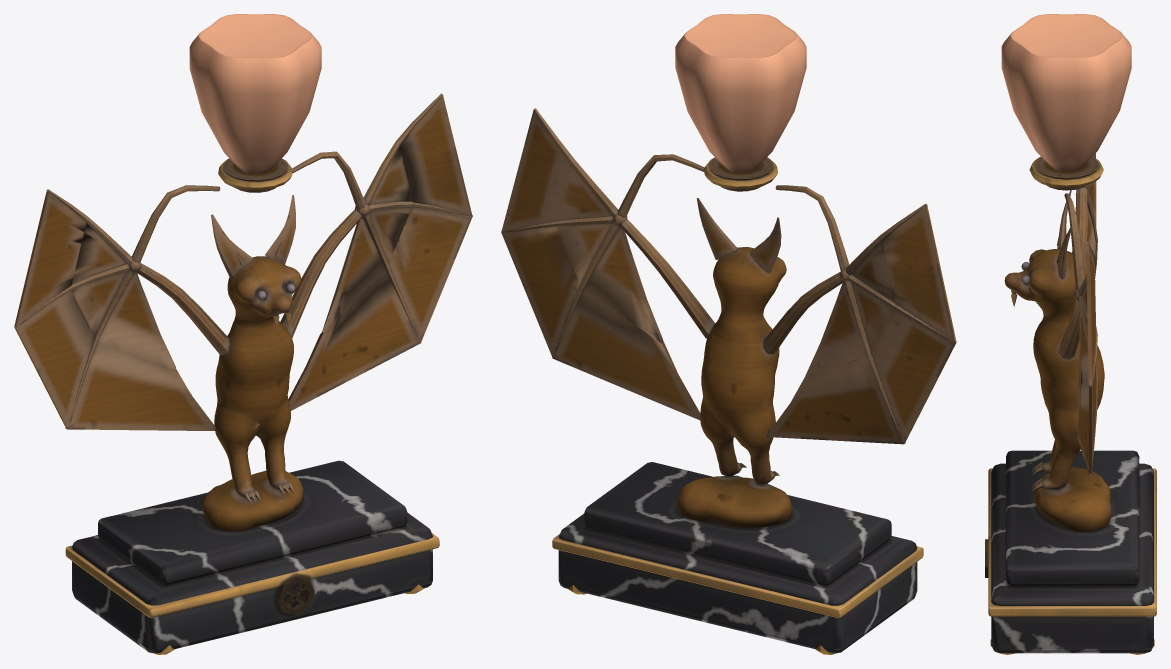
File: MantelLampBat.fbx
3 views of the same model, side by side, from view 1: azimuth 30°, elevation 25°; view 2: azimuth 150°, elevation 25°; view 3: azimuth 270°, elevation 25° (orthographic).
Parts seen in each view (by area): view 1: MantelLampBat_Main, MantelLampBat_Glow; view 2: MantelLampBat_Main, MantelLampBat_Glow; view 3: MantelLampBat_Main, MantelLampBat_Glow.
Part boxes in pixels (<box>): MantelLampBat_Main: <box>14,93,472,654</box>; MantelLampBat_Glow: <box>189,14,321,173</box>; MantelLampBat_Main: <box>501,108,956,654</box>; MantelLampBat_Glow: <box>675,14,806,172</box>; MantelLampBat_Main: <box>985,153,1156,654</box>; MantelLampBat_Glow: <box>1001,14,1131,171</box>.
Size of the model in its own units: 176 by 208 by 58.1.
